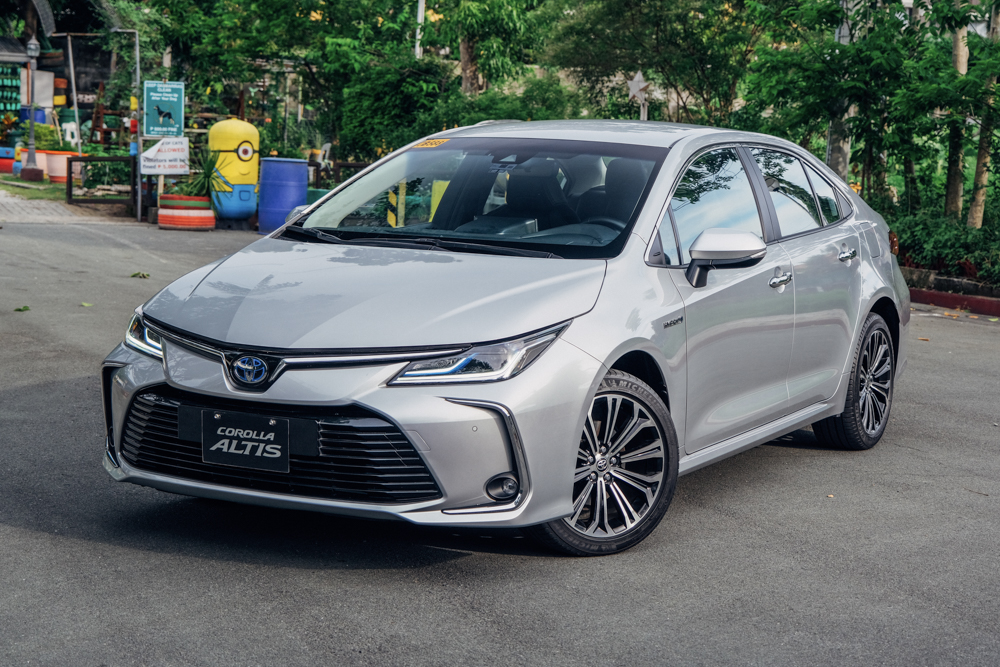car: (93, 114, 917, 562)
